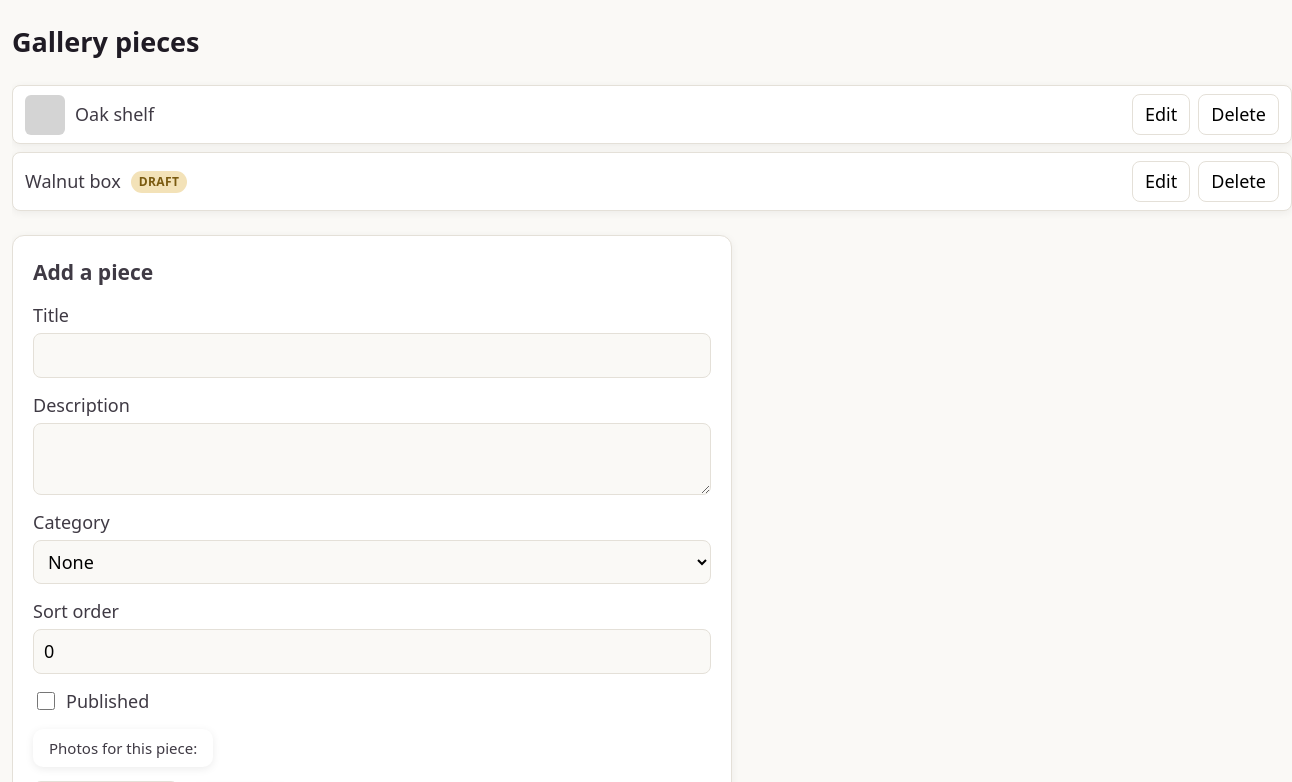
Test: GalleryPanel › deleting the piece that is being edited resets the form
Expected: the text "Oak shelf" is shown, top-left (25, 95), bottom-right (154, 135)
What coordinates should you click on to do the following:
click the button "Edit" in the row of "Oak shelf"
I would click on:
 (1161, 115)
Its box is top-left (1132, 94), bottom-right (1190, 135).
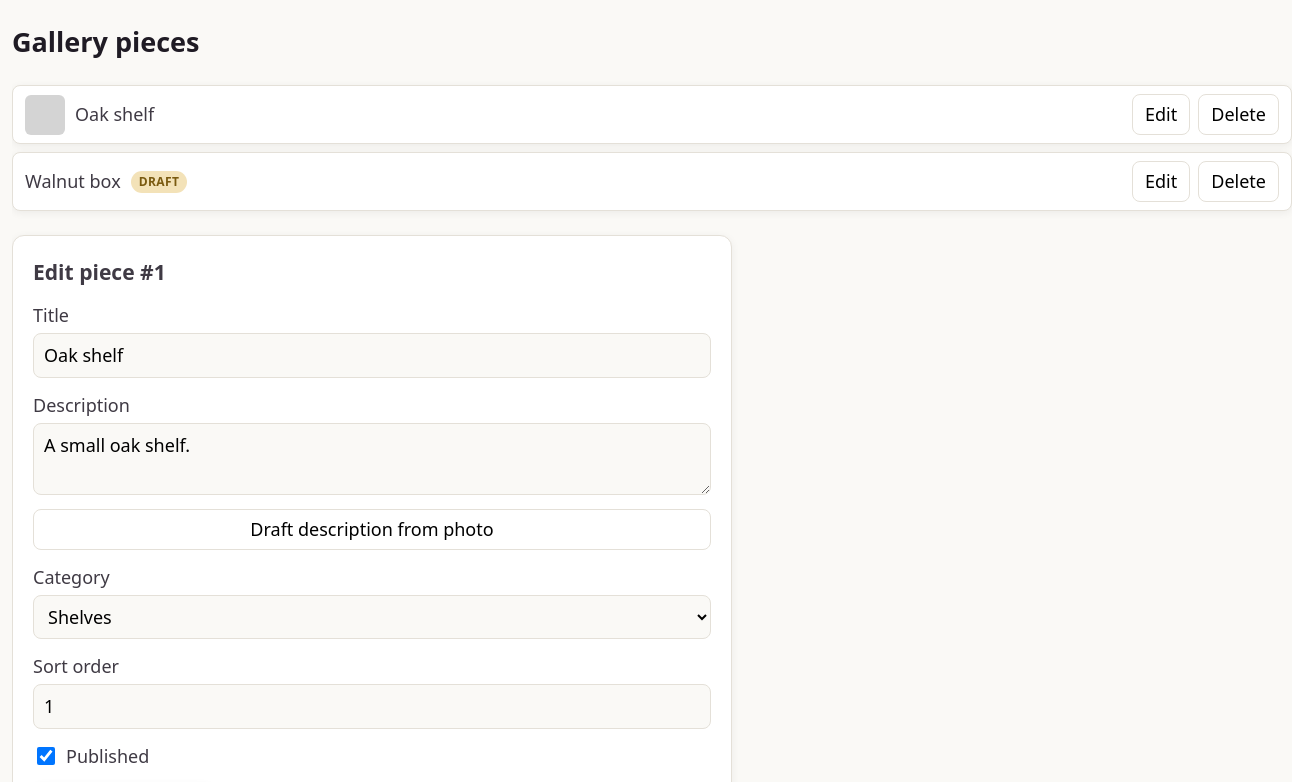
Now the heading "Edit piece #1" is shown, box top-left (33, 257), bottom-right (166, 286)
What coordinates should you click on to do the following:
click the button "Delete" in the row of "Oak shelf"
I would click on:
 (1239, 115)
Its box is top-left (1198, 94), bottom-right (1279, 135).
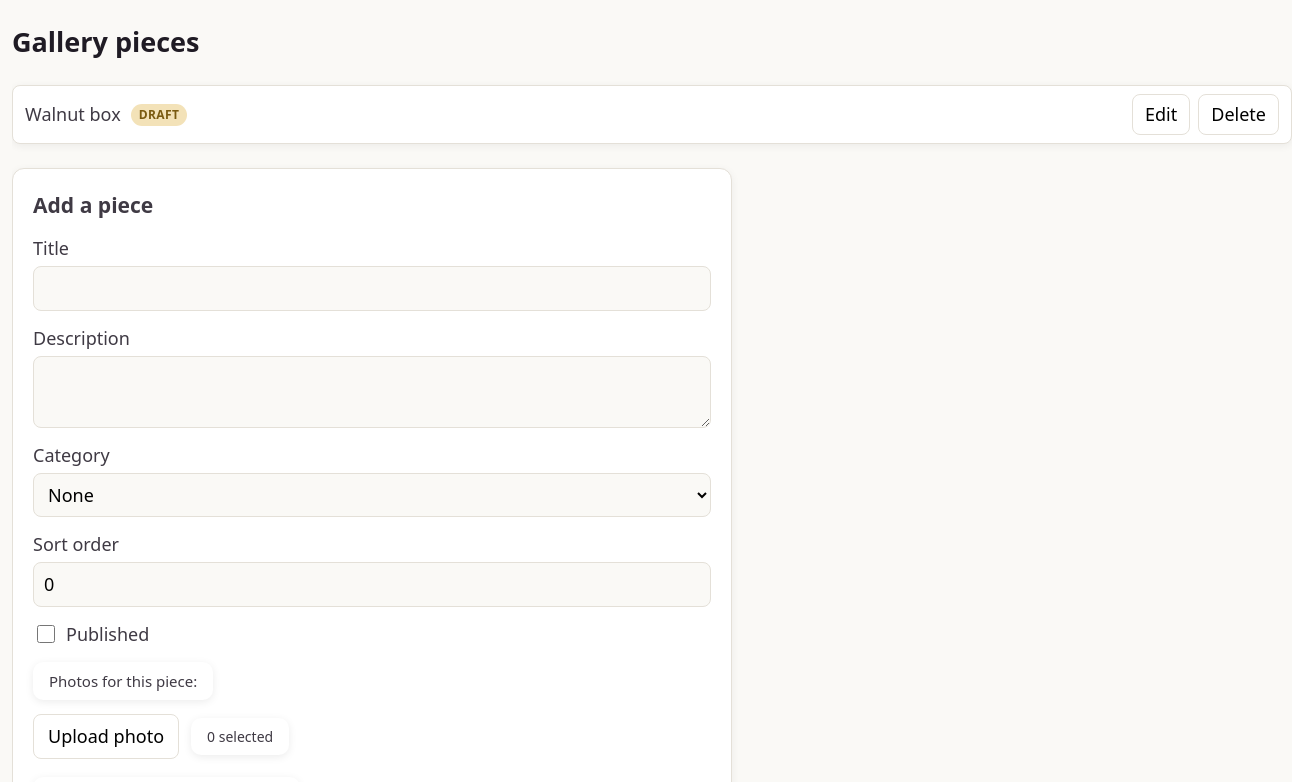
Expected: the text "Walnut box" is shown, top-left (25, 102), bottom-right (121, 126)
Now the heading "Add a piece" is shown, box top-left (33, 190), bottom-right (153, 219)
